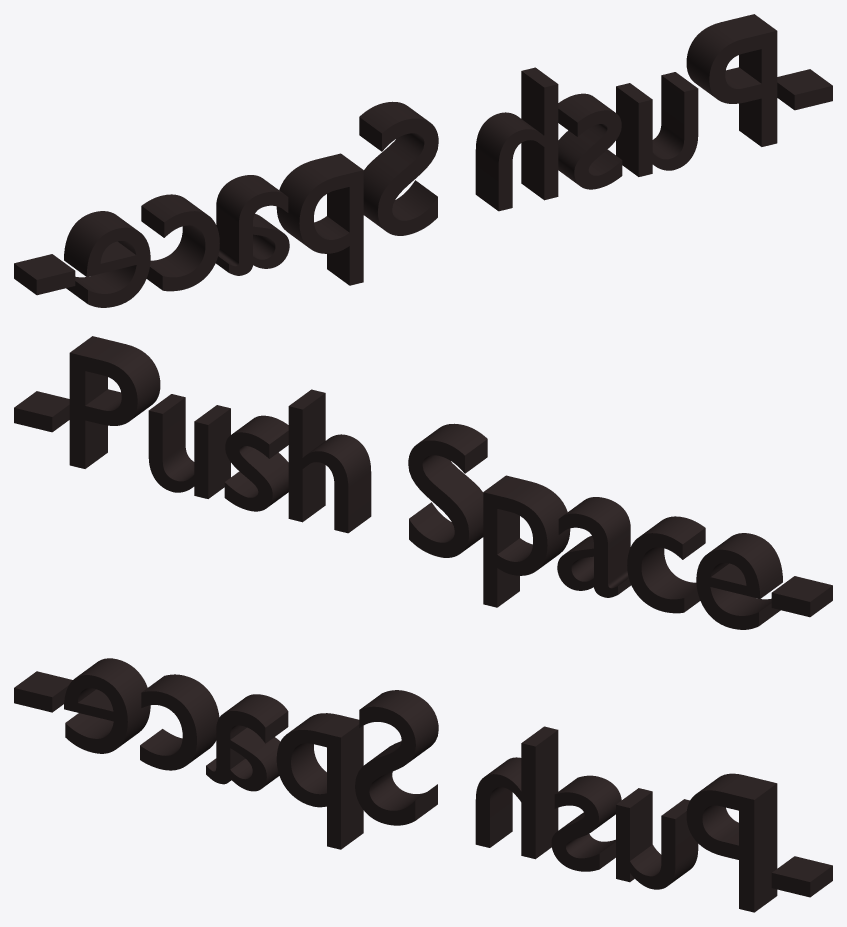
The model's file is title2.obj.
3 renders of one model, top to bottom at view 1: azimuth 30°, elevation 25°; view 2: azimuth 150°, elevation 25°; view 3: azimuth 330°, elevation 25°, orthographic.
Visible parts, largest first — view 1: テキスト.001; view 2: テキスト.001; view 3: テキスト.001.
Boxes of the visible parts, x1,y1,x2,y2 form: テキスト.001: (14, 14, 832, 307); テキスト.001: (14, 336, 832, 629); テキスト.001: (14, 658, 832, 912).
Size of the model in its own units: 20.16 by 3.68 by 1.
